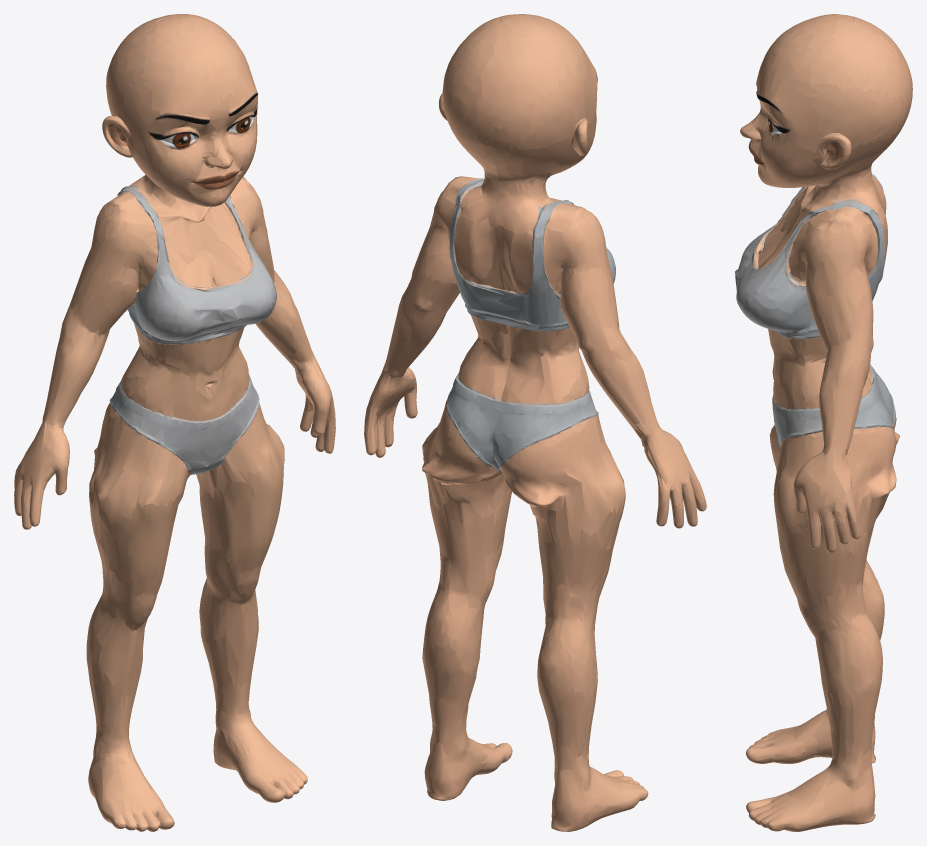
The model's file is body_female_average.glb.
3 views of the same model, side by side, from view 1: azimuth 30°, elevation 25°; view 2: azimuth 150°, elevation 25°; view 3: azimuth 270°, elevation 25° (orthographic).
Visible parts, largest first — view 1: body_average; view 2: body_average; view 3: body_average.
Boxes of the visible parts, <box> form: body_average: <box>14,14,335,831</box>; body_average: <box>364,14,706,831</box>; body_average: <box>735,14,912,831</box>.
Size of the model in its own units: 0.725 by 1.7 by 0.3559.
1 material, 1 textured.
